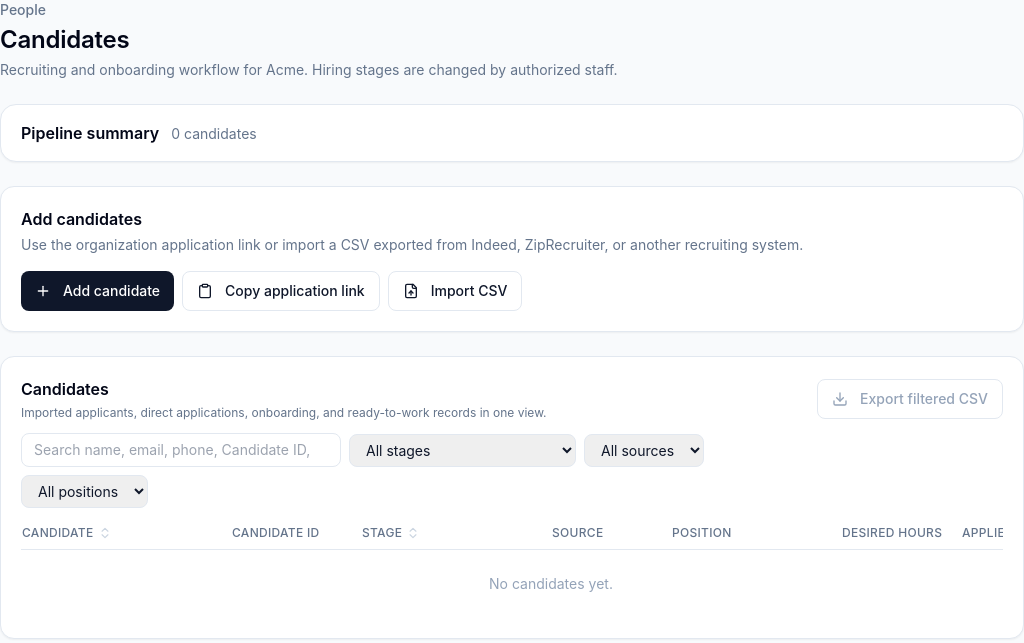
Test: Manual candidate creation › reveals a Specify position field for Other and requires it before Save is enabled
The width and height of the screenshot is (1024, 643).
Expected: the text "No candidates yet." is shown, top-left (21, 550), bottom-right (1003, 618)
Click the button "Add candidate". click: (98, 291)
box: top-left (21, 271), bottom-right (174, 311)
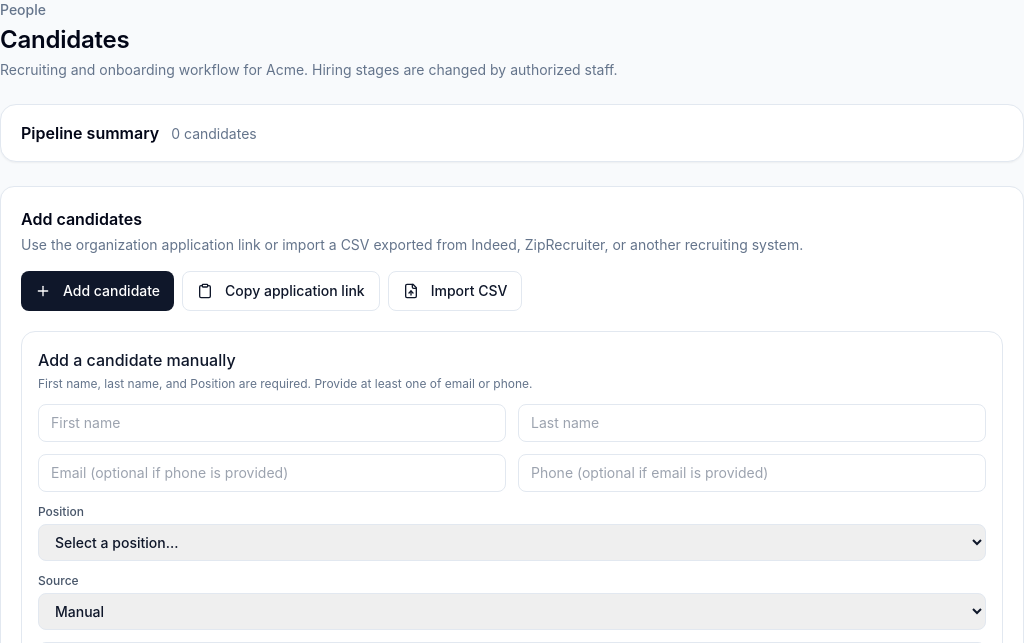
Result: the heading "Add a candidate manually" is shown at top-left (38, 350), bottom-right (236, 370)
Type "Pat" into the field labelled "First name". click: (272, 423)
box: top-left (38, 404), bottom-right (506, 442)
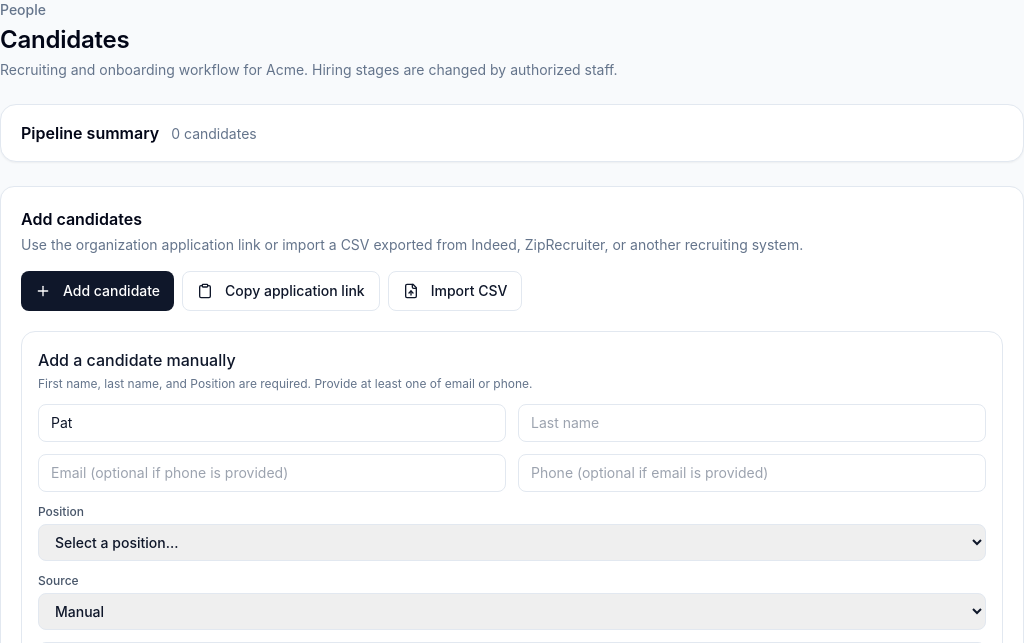
Type "WalkIn" into the field labelled "Last name". click: (752, 423)
box: top-left (518, 404), bottom-right (986, 442)
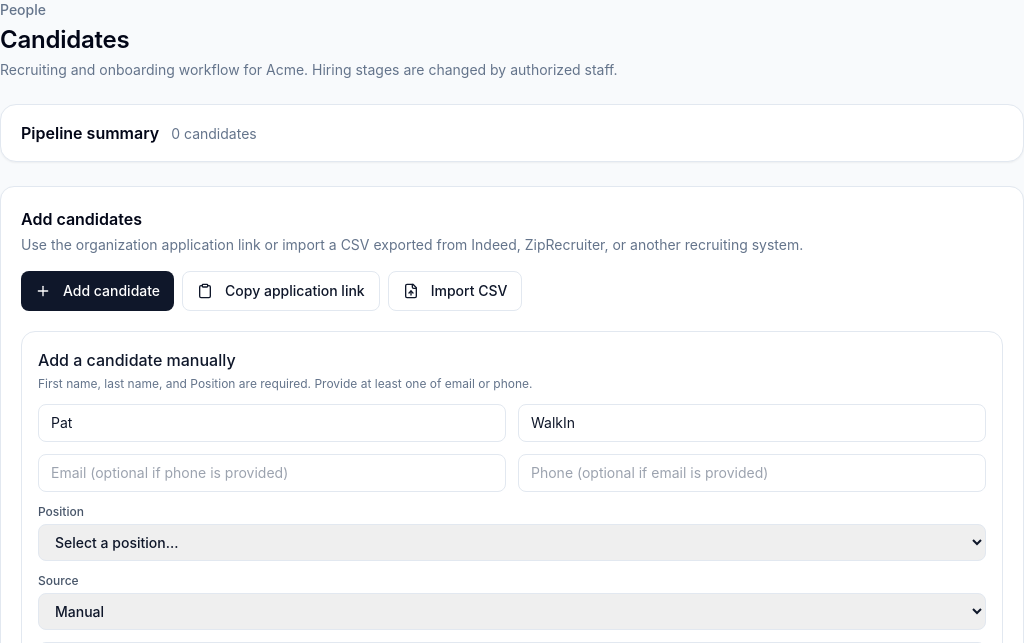
Type "555-111-2222" into the field labelled "Phone". click: (752, 473)
box: top-left (518, 454), bottom-right (986, 492)
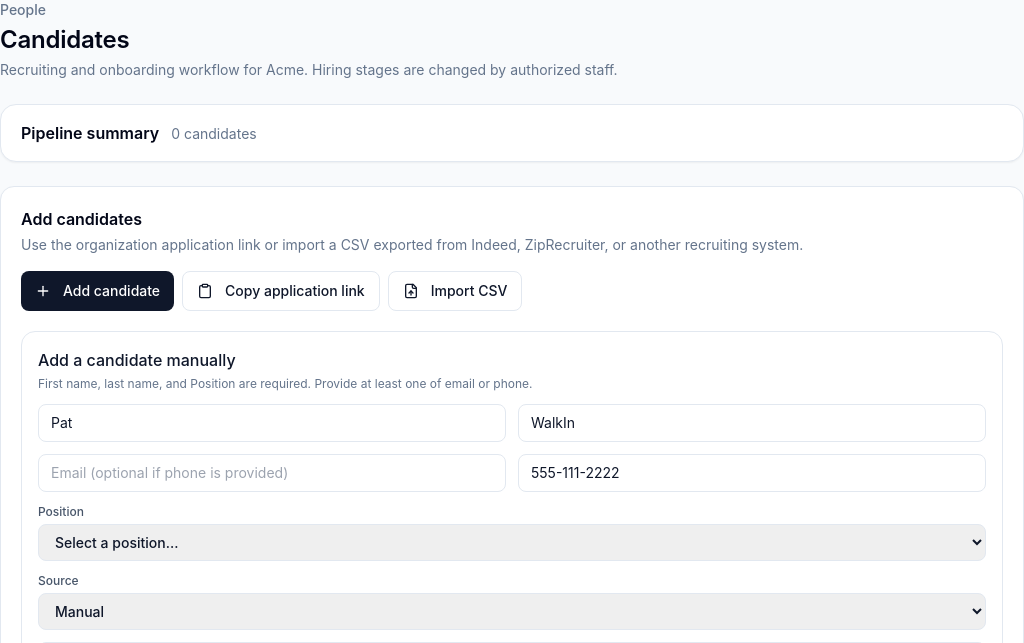
Select "Other" in the dropdown labelled "Position". click: (512, 542)
box: top-left (38, 524), bottom-right (986, 561)
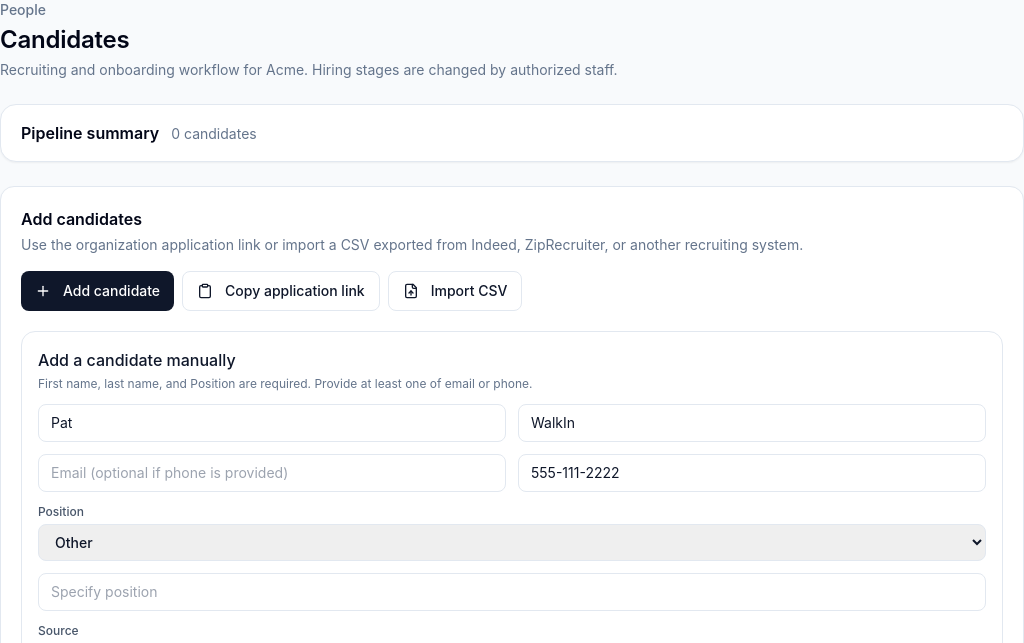
Result: the field labelled "Specify position" is shown
Type "Overnight Companion" into the field labelled "Specify position". click: (512, 592)
box: top-left (38, 573), bottom-right (986, 611)
(page scrolled)
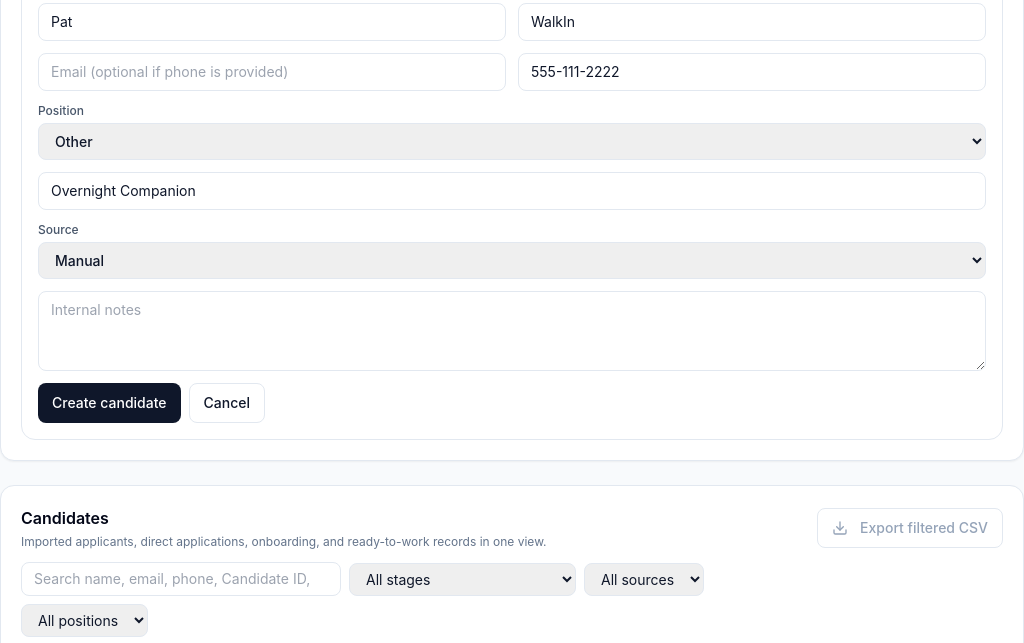
Result: the button "Create candidate" is enabled at top-left (38, 383), bottom-right (180, 423)
